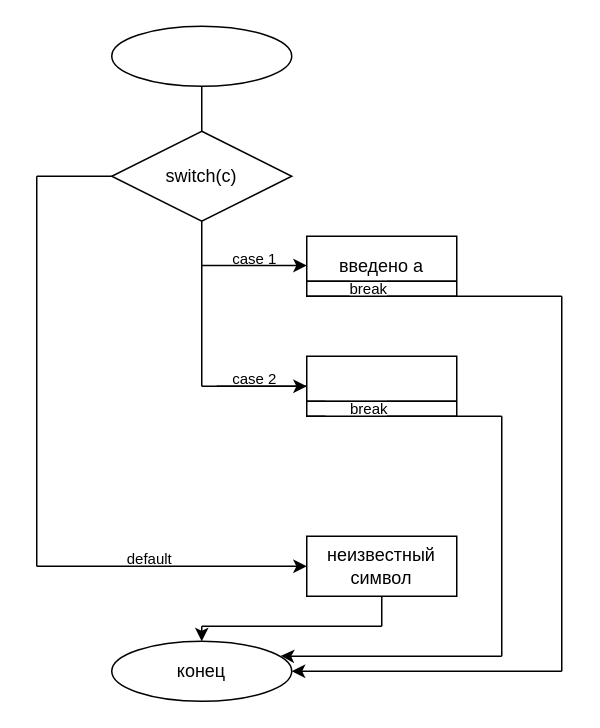
Image size: 600x728. Some labels were removed from this diagram. The box of each missing label's shape, as (x1, y1, x2, y2) in pixels:
введено b: (305, 355, 457, 416)
Начало: (110, 25, 292, 86)
